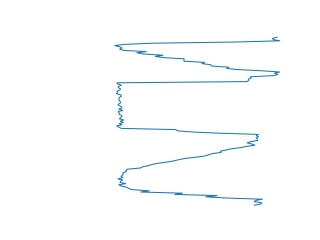distributaryChannelFill: (111, 72, 263, 145)
mouthBar: (111, 32, 284, 81)
underwaterDistributaryChannel: (114, 137, 268, 208)
